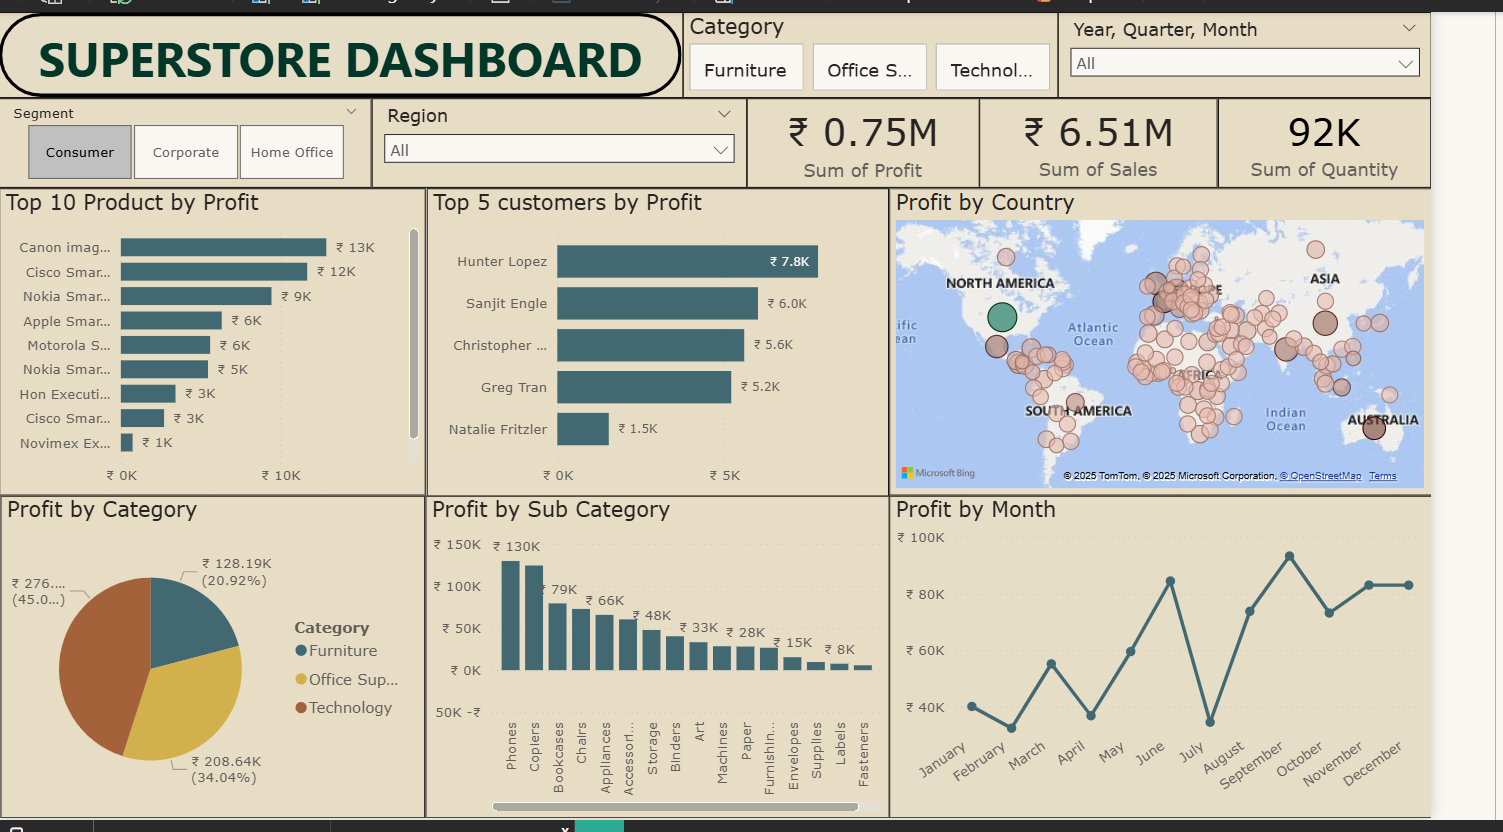

Layout of this report page (visuals, bound fields, positions):
{"tool":"powerbi","page":{"name":"Profit Superstore Dashboard","canvas":[1280,720],"ordinal":1},"visuals":[{"type":"card","fields":{"Values":["Superstore.Profit"]},"box":[668.7,77,207.6,80.4],"z":0},{"type":"card","fields":{"Values":["Superstore.Sales"]},"box":[876.3,77.5,212.9,80],"z":1000},{"type":"card","fields":{"Values":["Superstore.Quantity"]},"box":[1089.2,77.5,190.8,80],"z":2000},{"type":"clusteredBarChart","title":"Top 10 Product by Profit","fields":{"Category":["Superstore.Product.Name"],"Y":["Superstore.Profit"]},"box":[1.1,157.4,380.7,274.6],"z":3000},{"type":"lineChart","title":"Profit by Month","fields":{"Y":["Superstore.Profit"],"Category":["Superstore.Order.Date.Variation.Date Hierarchy.Month"]},"box":[795.9,432,484.5,288],"z":4000},{"type":"slicer","fields":{"Values":["Superstore.Order.Date.Variation.Date Hierarchy.Year","Superstore.Order.Date.Variation.Date Hierarchy.Quarter","Superstore.Order.Date.Variation.Date Hierarchy.Month"]},"box":[0,0,333.5,77.5],"z":5000},{"type":"columnChart","title":"Profit by Sub Category","fields":{"Category":["Superstore.Sub.Category"],"Y":["Superstore.Profit"]},"box":[381.8,432,414.1,288],"z":6000},{"type":"pieChart","title":"Profit by Category","fields":{"Y":["Superstore.Profit"],"Series":["Superstore.Category"]},"box":[2.2,432,379.5,288],"z":7000},{"type":"barChart","title":"Top 5 customers by Profit","fields":{"Category":["Superstore.Customer.Name"],"Y":["Superstore.Profit"]},"box":[382.5,157.1,413.1,274.9],"z":8000},{"type":"map","title":"Profit by Country","fields":{"Size":["Superstore.Profit"],"Category":["Superstore.Country"]},"box":[795.9,157.4,484.5,274.6],"z":9000},{"type":"advancedSlicerVisual","fields":{"Values":["Superstore.Category"]},"box":[333.8,0,334.9,77],"z":10000},{"type":"slicer","fields":{"Values":["Superstore.Segment"]},"box":[0,77,333.8,80.4],"z":11000},{"type":"slicer","fields":{"Values":["Superstore.Region"]},"box":[333.8,77,334.9,80.4],"z":12000},{"type":"shape","box":[668.7,0,611.7,77],"z":13000}]}

Visuals, with their boxes on the page's 1280x720 design canvas (x1, y1, x2, y2). These are canvas units, not pixel positions in the 1503x832 screenshot, which may show the page scaled, cropped or inside an application window:
card - Superstore.Profit: rect(669, 77, 876, 157)
card - Superstore.Sales: rect(876, 78, 1089, 158)
card - Superstore.Quantity: rect(1089, 78, 1280, 158)
"Top 10 Product by Profit" clusteredBarChart: rect(1, 157, 382, 432)
"Profit by Month" lineChart: rect(796, 432, 1280, 720)
slicer - Superstore.Order.Date.Variation.Date Hierarchy.Year x Superstore.Order.Date.Variation.Date Hierarchy.Quarter: rect(0, 0, 334, 78)
"Profit by Sub Category" columnChart: rect(382, 432, 796, 720)
"Profit by Category" pieChart: rect(2, 432, 382, 720)
"Top 5 customers by Profit" barChart: rect(382, 157, 796, 432)
"Profit by Country" map: rect(796, 157, 1280, 432)
advancedSlicerVisual - Superstore.Category: rect(334, 0, 669, 77)
slicer - Superstore.Segment: rect(0, 77, 334, 157)
slicer - Superstore.Region: rect(334, 77, 669, 157)
shape: rect(669, 0, 1280, 77)
